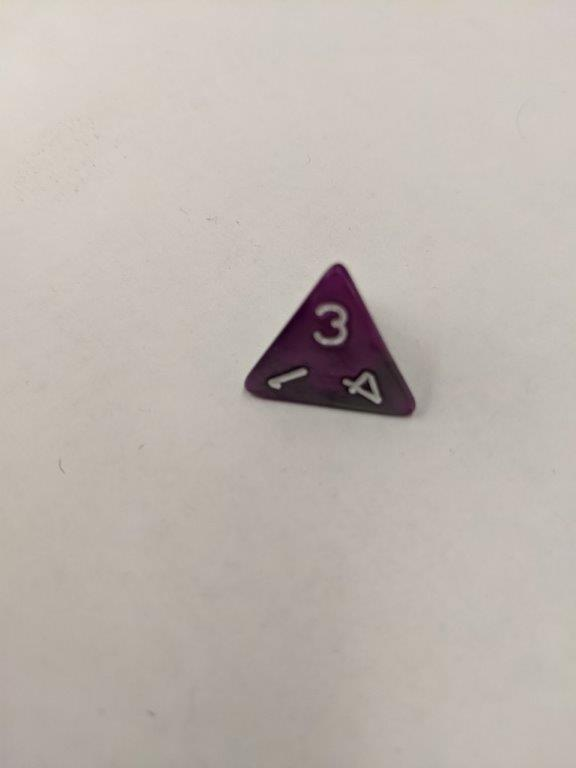d4-3: (243, 261, 417, 423)
